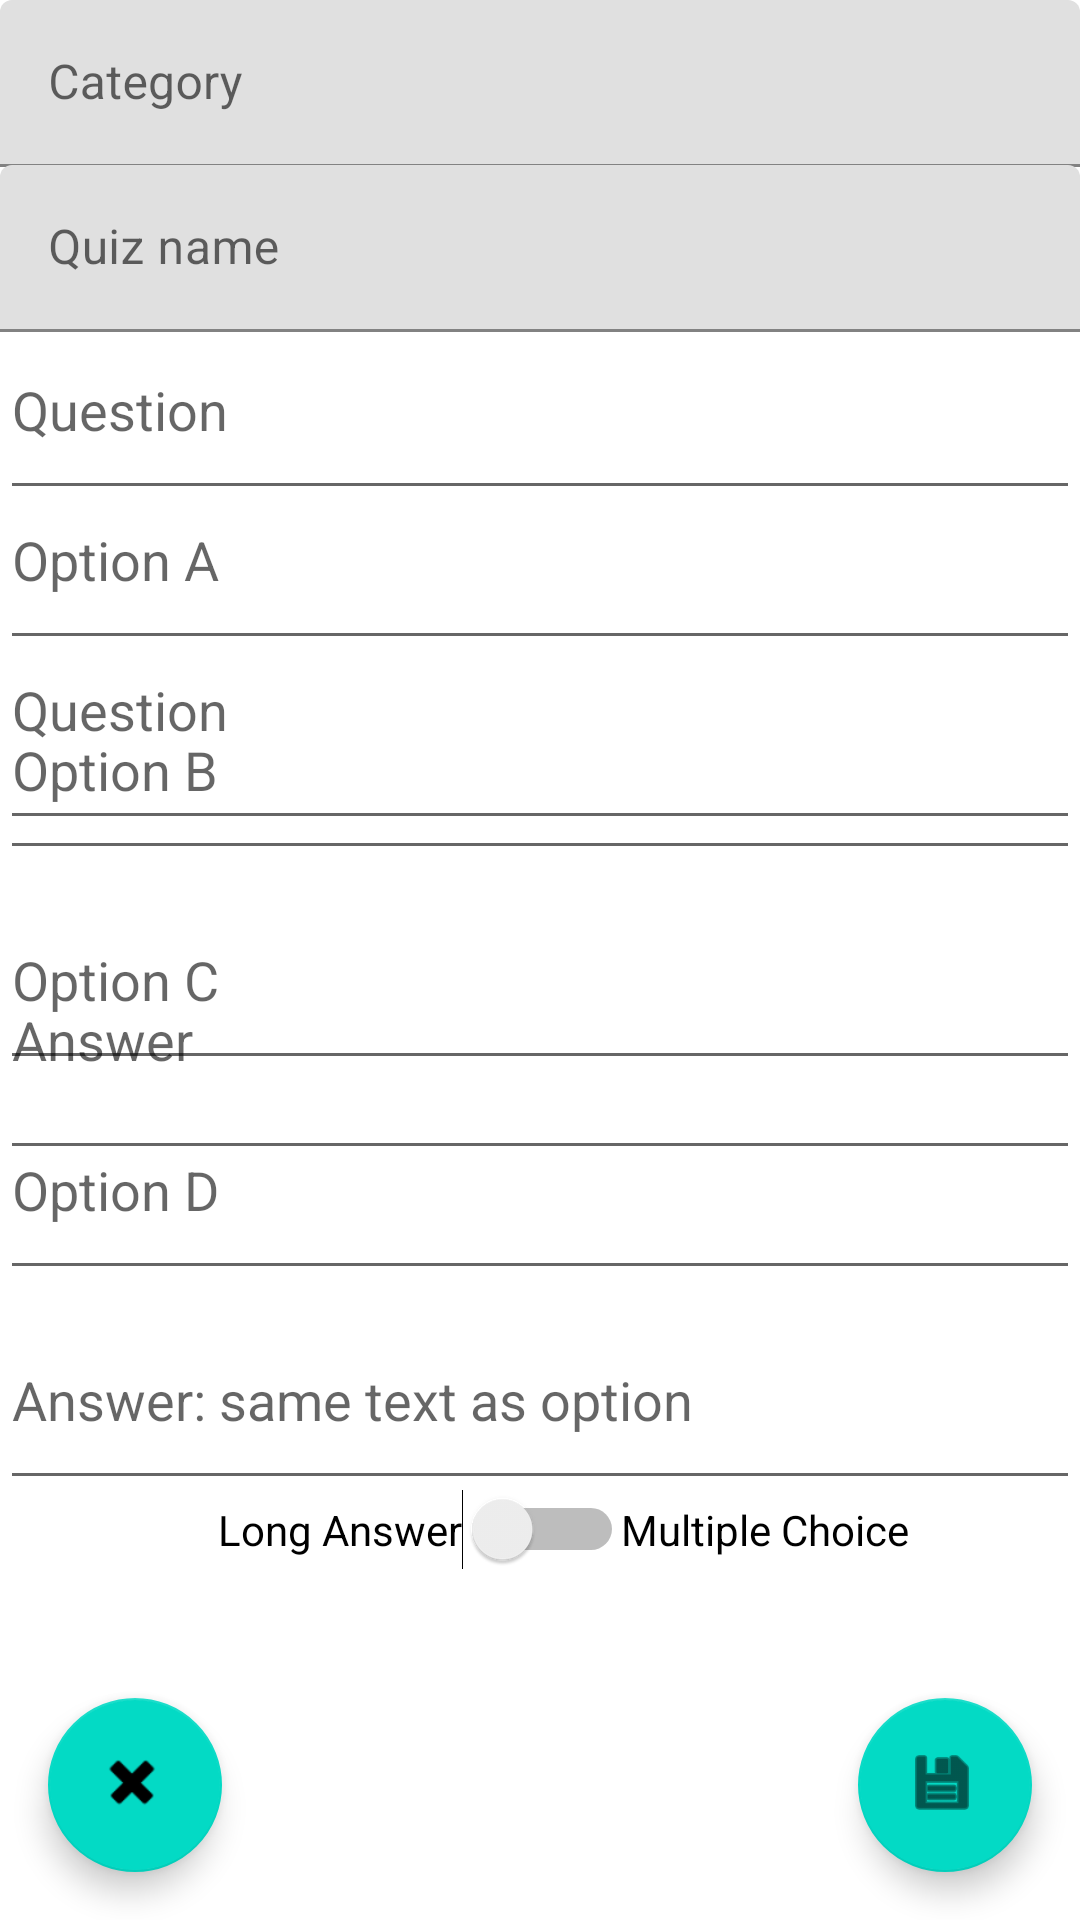

Icon click points for this 1080 x 1920 phone screenshot, format (x,y):
delete: (135,1785)
save: (945,1785)
